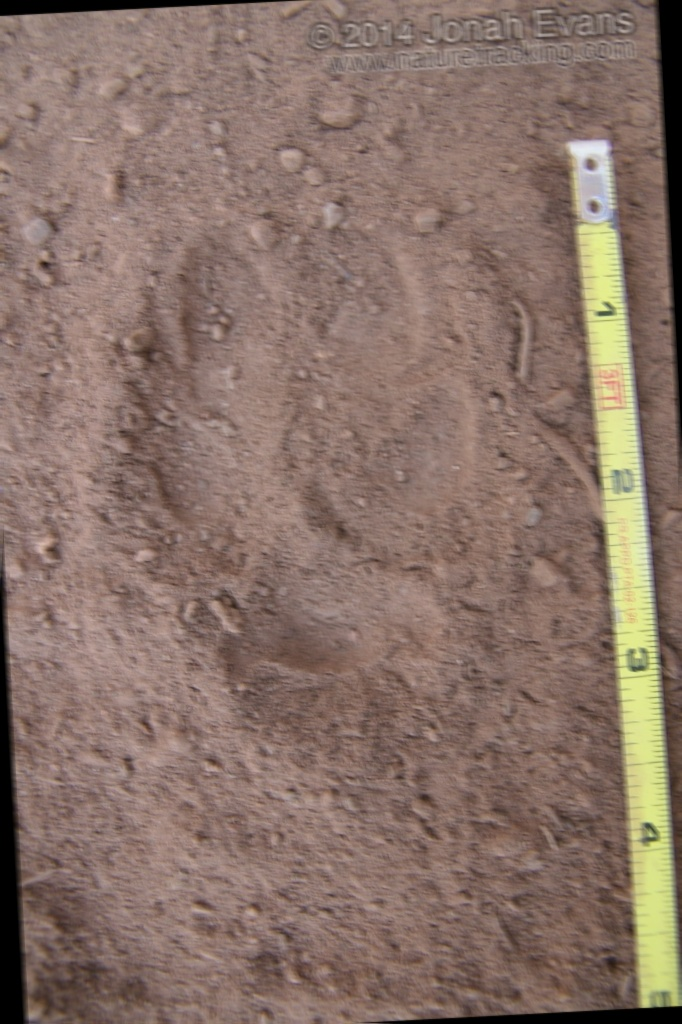coyote: (91, 202, 507, 707)
